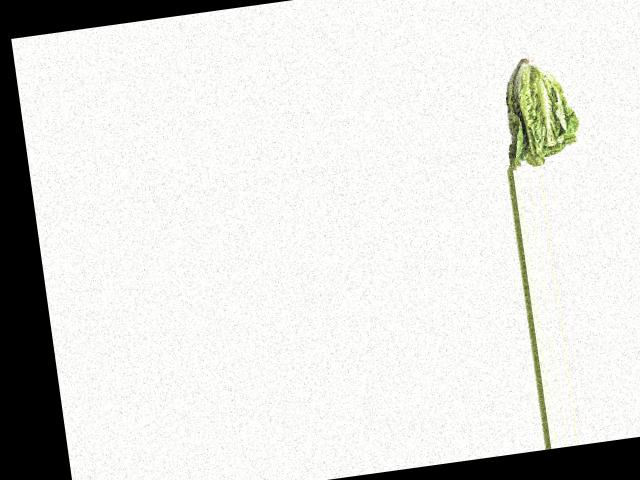lettuce: (496, 54, 587, 170)
